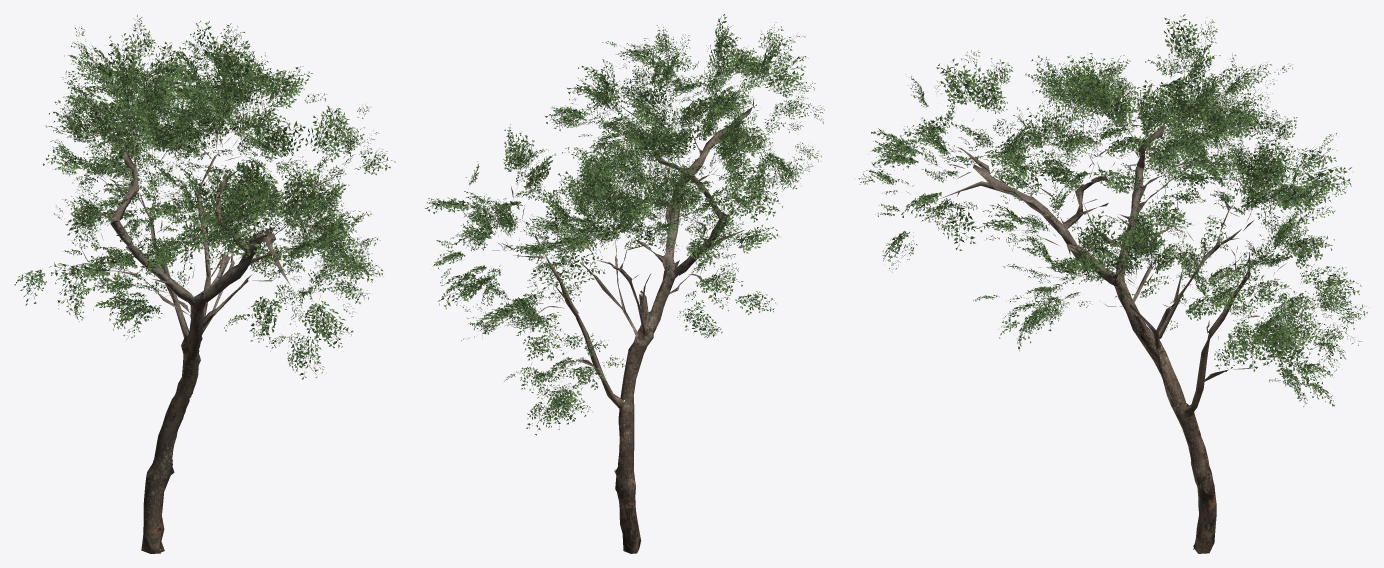
Rendered from tree_small_02.glb.
3 views of the same model, side by side, from view 1: azimuth 30°, elevation 25°; view 2: azimuth 150°, elevation 25°; view 3: azimuth 270°, elevation 25° (orthographic). The views are drawn at different scales.
Visible parts, largest first — view 1: tree_small_02_0; view 2: tree_small_02_0; view 3: tree_small_02_0.
Part boxes in pixels (left/top/right/bottom): tree_small_02_0: left=14, top=14, right=395, bottom=553; tree_small_02_0: left=425, top=14, right=824, bottom=553; tree_small_02_0: left=858, top=14, right=1369, bottom=553.
Bounding box in the file's own units: 3.83 × 6 × 5.63.
Materials: 3 (3 with a texture image).
